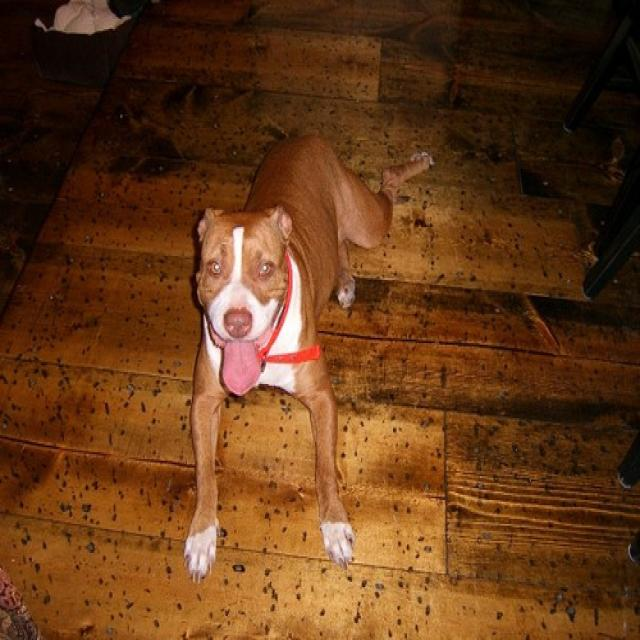dog-american_pit_bull_terrier: (173, 125, 439, 594)
